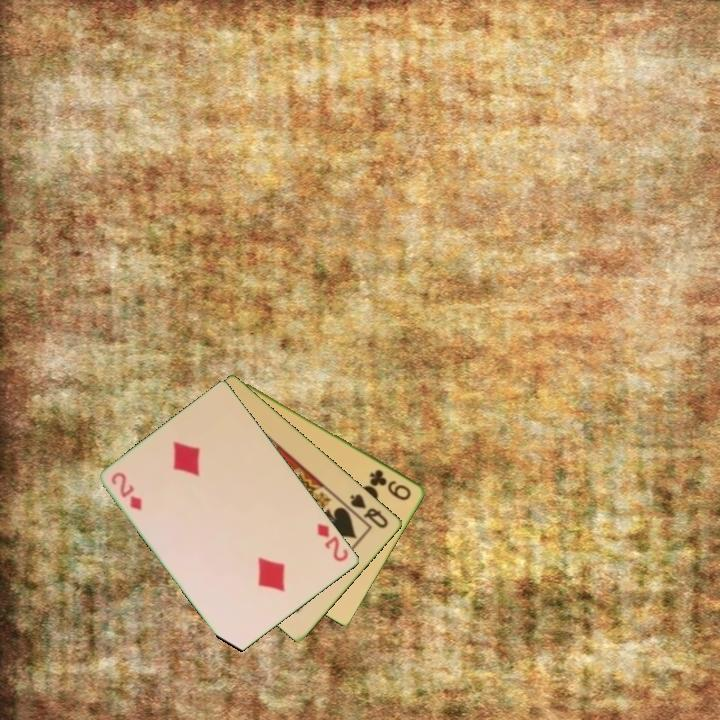2d: (314, 520, 352, 565), (108, 468, 145, 513)
9c: (366, 466, 415, 503)
Qs: (347, 490, 391, 531)
